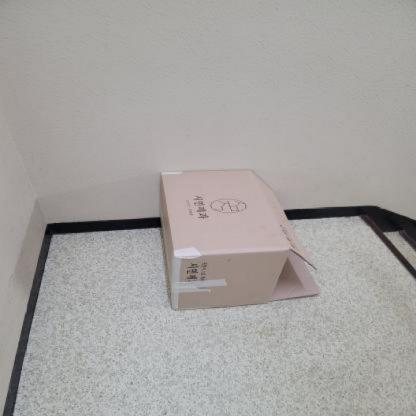-: (156, 161, 329, 313)
